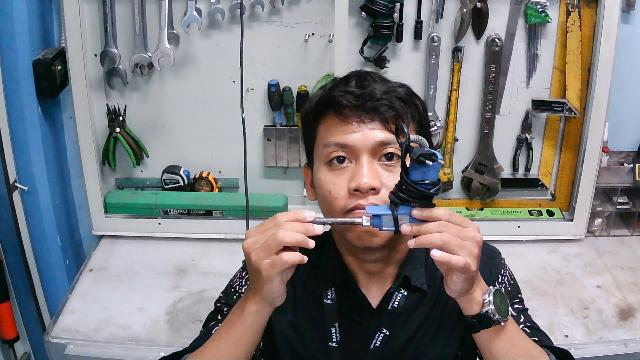solder_electrical: (283, 122, 445, 231)
